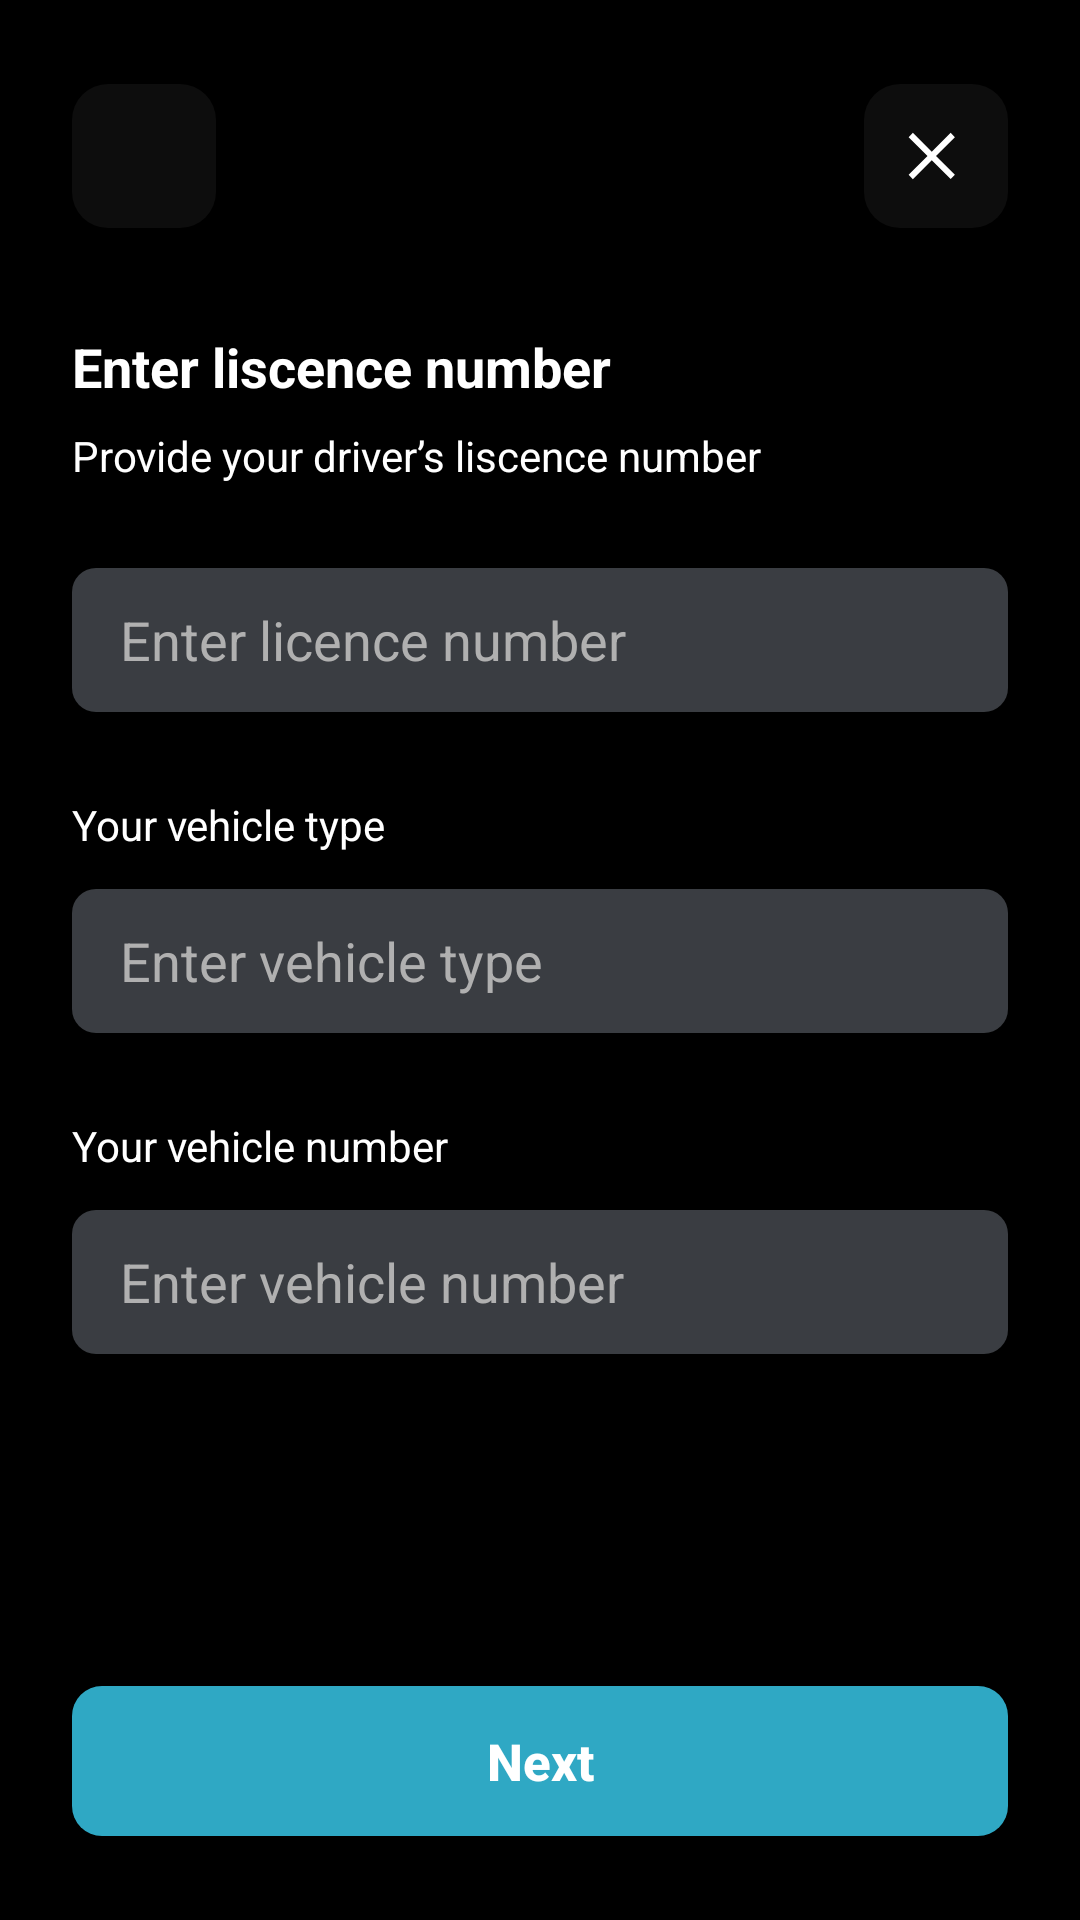

Icons on this 1080px x 1920px Android screen, each with the point to tap as [x,y]:
Close: [936,156]
